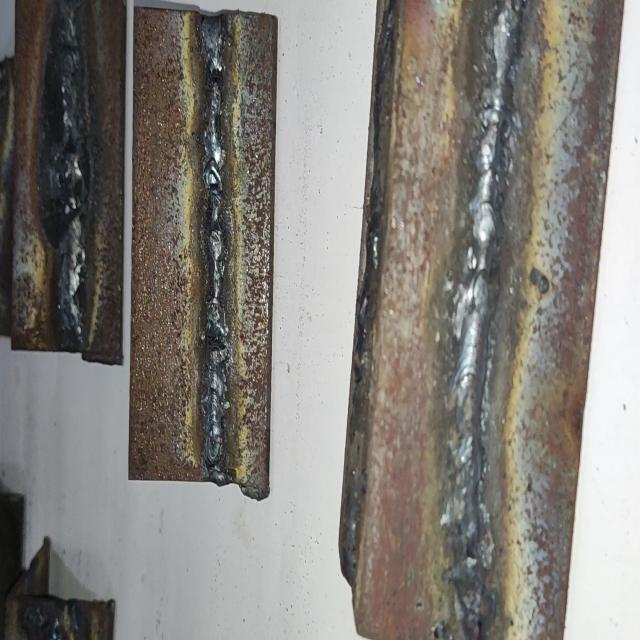Bad Weld: (53, 13, 90, 326)
Defect: (39, 133, 99, 233)
Good Weld: (442, 0, 529, 612), (202, 22, 227, 461)
